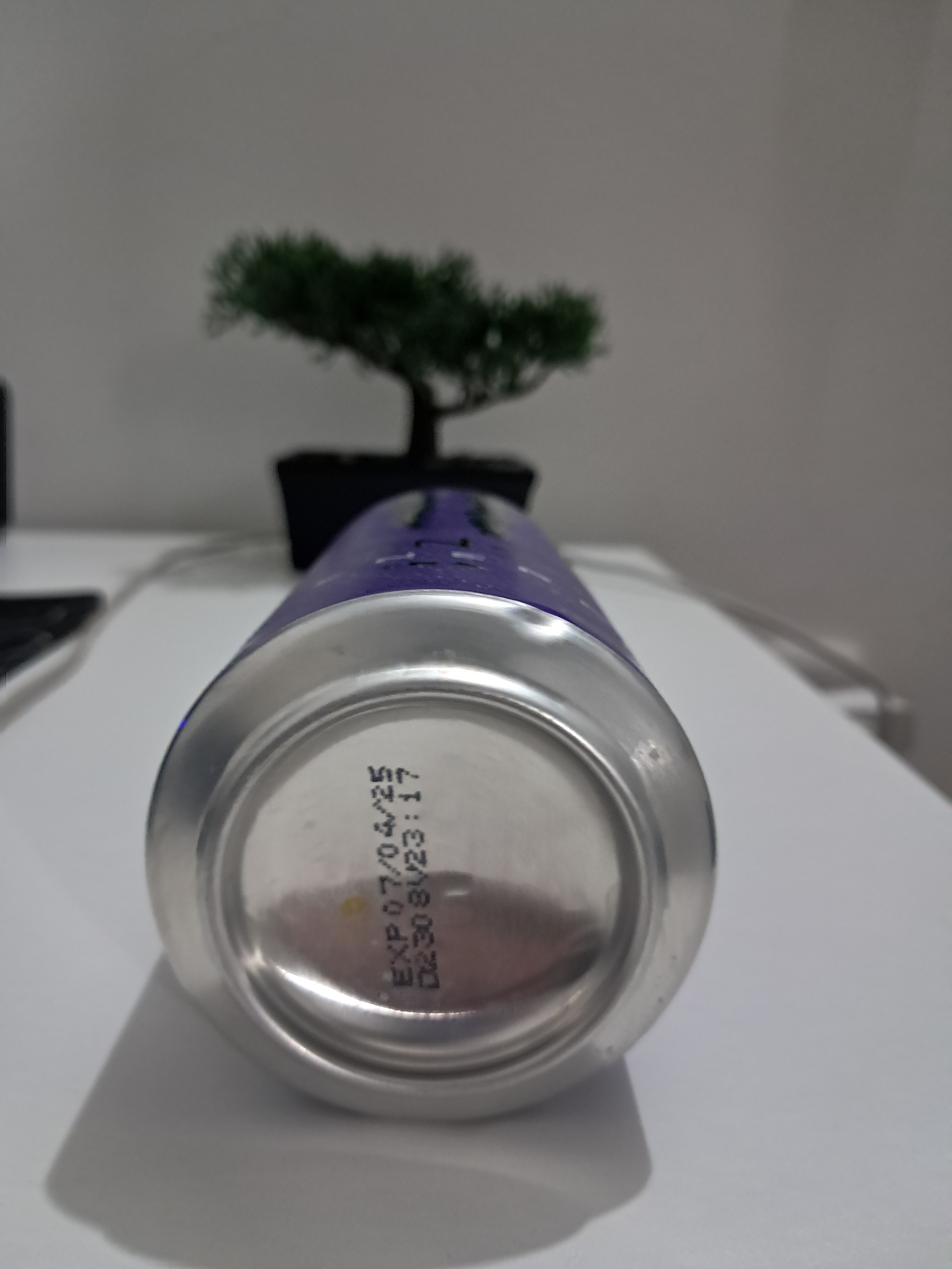energy_drink: (147, 490, 715, 1118)
